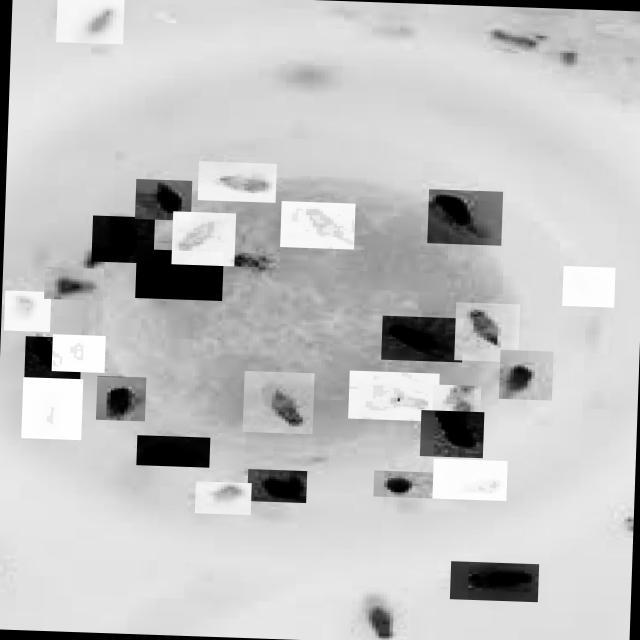fruit fly: (346, 370, 438, 421), (134, 248, 222, 300), (241, 371, 313, 434), (426, 188, 502, 246), (452, 302, 518, 362), (20, 376, 82, 439), (380, 315, 462, 362), (278, 200, 354, 250), (448, 560, 538, 602), (170, 211, 235, 266), (197, 160, 276, 202), (431, 458, 506, 501), (418, 410, 483, 458), (90, 215, 154, 263), (54, 0, 123, 44), (497, 349, 552, 400), (352, 595, 410, 640), (430, 384, 480, 433), (135, 434, 209, 467), (22, 336, 80, 378), (133, 178, 190, 220), (94, 374, 145, 420), (561, 266, 614, 308), (50, 333, 104, 372), (246, 468, 306, 502), (42, 266, 102, 300), (2, 290, 50, 332), (192, 480, 250, 514), (372, 470, 432, 498)
